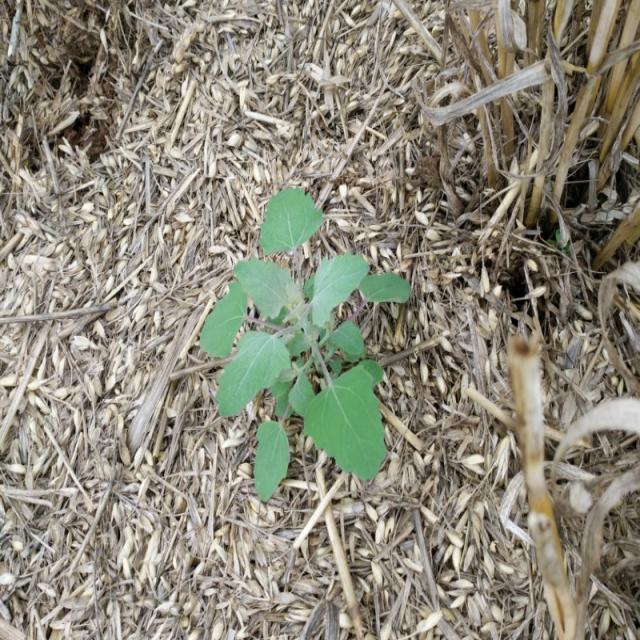goosefoots: (196, 178, 445, 485)
